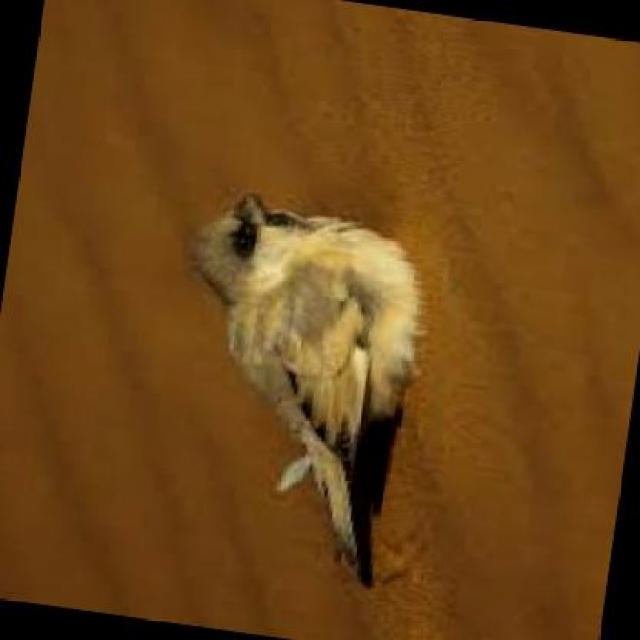Bird: (196, 186, 425, 596)
